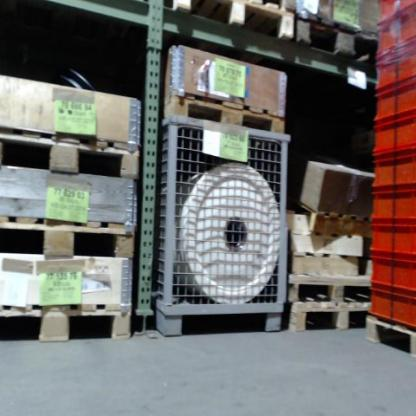pallet: (0, 124, 141, 182), (0, 214, 135, 260), (161, 89, 285, 134), (0, 303, 137, 343), (171, 0, 295, 41), (295, 17, 377, 66), (286, 300, 375, 333), (287, 272, 375, 305), (364, 316, 416, 360)
small_load_carrier: (371, 77, 415, 125), (367, 285, 413, 330), (377, 41, 415, 92), (376, 8, 415, 56), (374, 115, 414, 160), (371, 154, 415, 193), (371, 189, 413, 226), (369, 224, 413, 258), (368, 260, 413, 292), (373, 0, 414, 29)
stillage: (149, 105, 290, 338)
